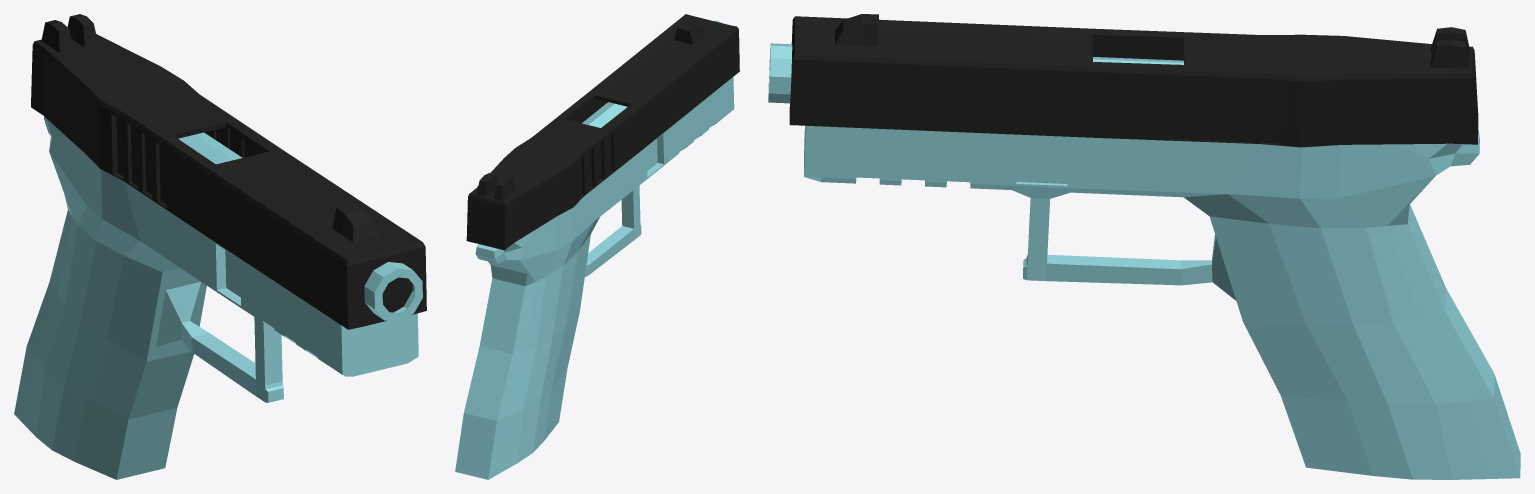
Rendered from Pistol.fbx.
The picture shows the model from 3 angles, left to right: view 1: azimuth 30°, elevation 25°; view 2: azimuth 150°, elevation 25°; view 3: azimuth 270°, elevation 25°; orthographic projection. The views are drawn at different scales.
Visible parts, largest first — view 1: cover, lung, Barrel; view 2: cover, lung, Barrel; view 3: cover, lung, Barrel.
Part boxes in pixels (box(x1,y1,x2,y2)): cover: box(14, 116, 418, 479); lung: box(31, 14, 426, 329); Barrel: box(178, 132, 422, 321); cover: box(455, 77, 734, 479); lung: box(466, 14, 739, 250); Barrel: box(582, 20, 722, 127); cover: box(804, 125, 1520, 479); lung: box(789, 14, 1478, 147); Barrel: box(768, 43, 1183, 103).
Size of the model in its own units: 52.03 by 248 by 380.
